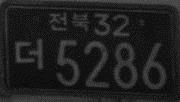2: (83, 40, 110, 89), (111, 13, 130, 36)
3: (93, 12, 110, 36)
5: (55, 37, 80, 87)
6: (141, 41, 167, 91)
8: (112, 41, 137, 90)
더: (14, 36, 44, 71)
전북_O: (48, 11, 89, 33)
